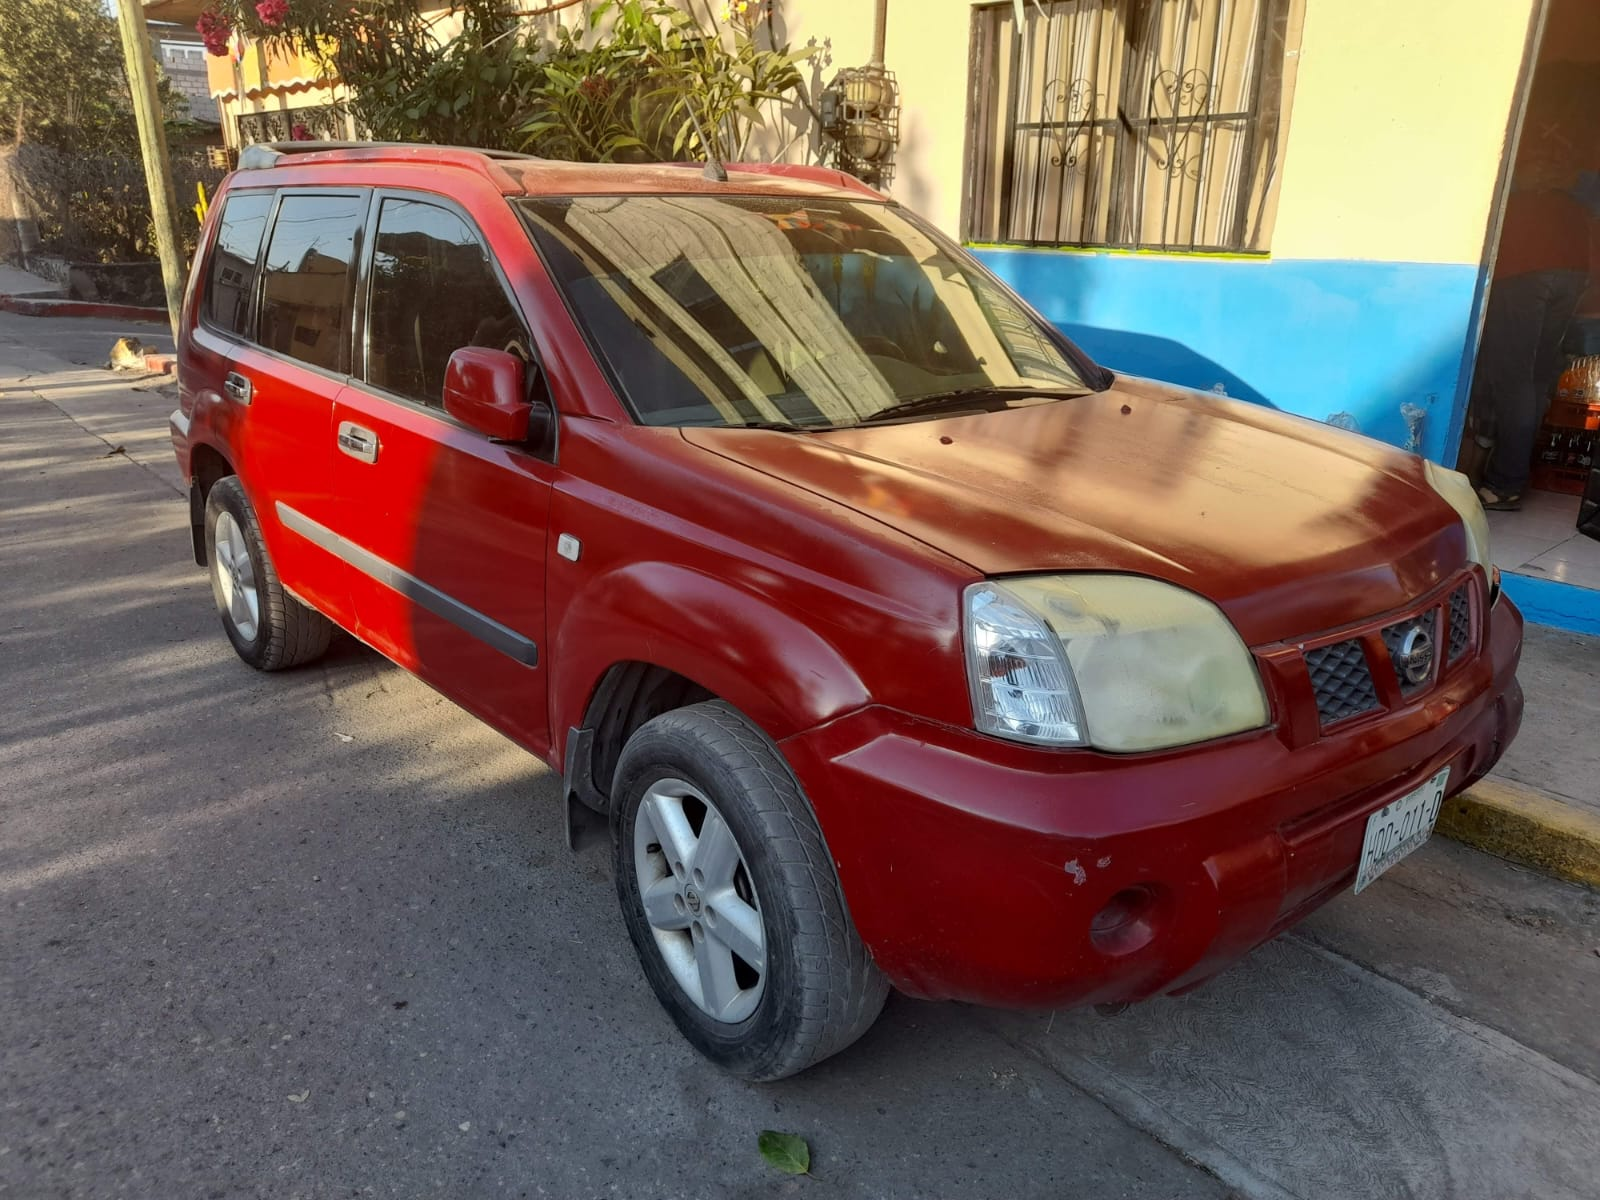Auto: (174, 145, 1524, 1082)
